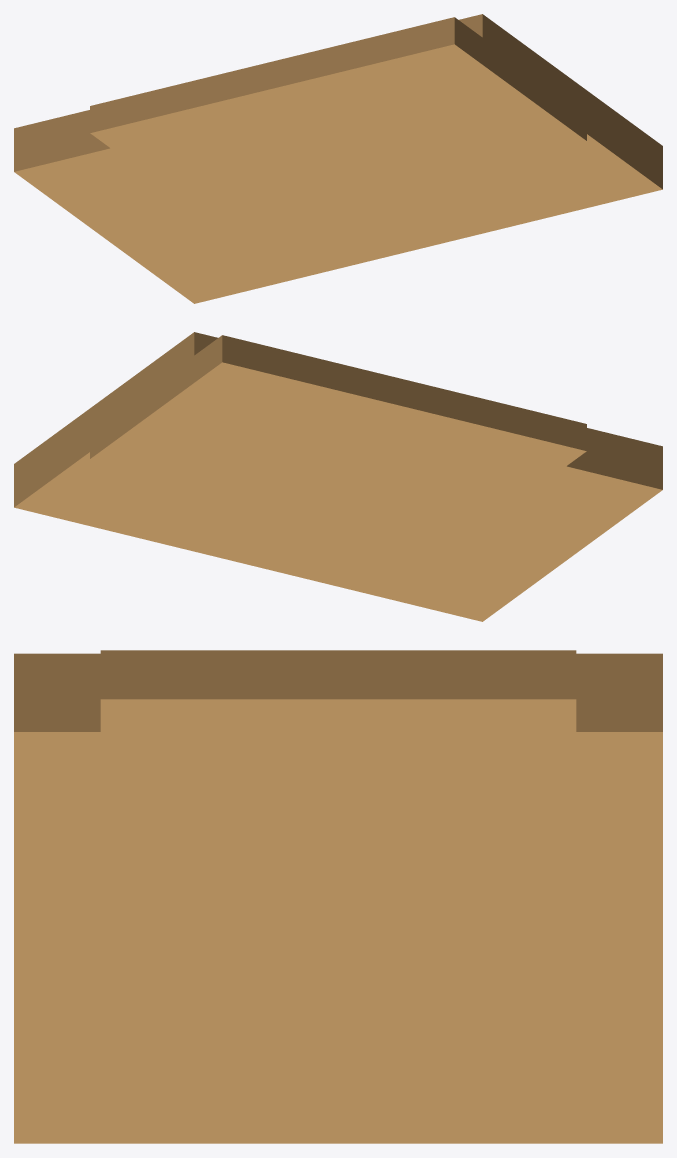
Rendered from document-folder.glb.
3 views of the same model, one above another, from view 1: azimuth 30°, elevation 25°; view 2: azimuth 150°, elevation 25°; view 3: azimuth 270°, elevation 25° (orthographic). The views are drawn at different scales.
Parts seen in each view (by area): view 1: Document folder; view 2: Document folder; view 3: Document folder.
Boxes of the visible parts, box(x1,y1,x2,y2) form: Document folder: box(14, 14, 662, 303); Document folder: box(14, 332, 662, 621); Document folder: box(14, 650, 662, 1143).
Size of the model in its own units: 0.9 by 0.13 by 0.6.
